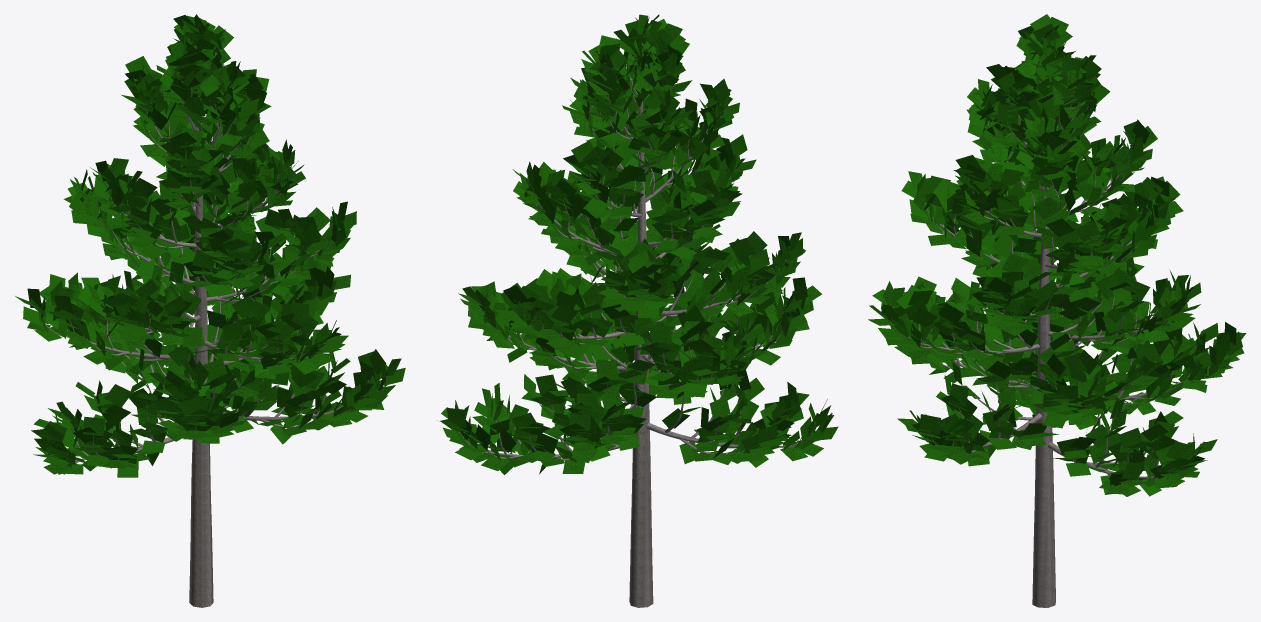
The model's file is tree.glb.
3 views of the same model, side by side, from view 1: azimuth 30°, elevation 25°; view 2: azimuth 150°, elevation 25°; view 3: azimuth 270°, elevation 25° (orthographic). The views are drawn at different scales.
Parts seen in each view (by area): view 1: tree_Mesh; view 2: tree_Mesh; view 3: tree_Mesh.
Part boxes in pixels (left/top/right/bottom): tree_Mesh: left=15, top=14, right=405, bottom=607; tree_Mesh: left=437, top=14, right=838, bottom=607; tree_Mesh: left=868, top=14, right=1246, bottom=607.
Size of the model in its own units: 1.19 by 1.98 by 1.17.
Materials: 3 (1 with a texture image).
